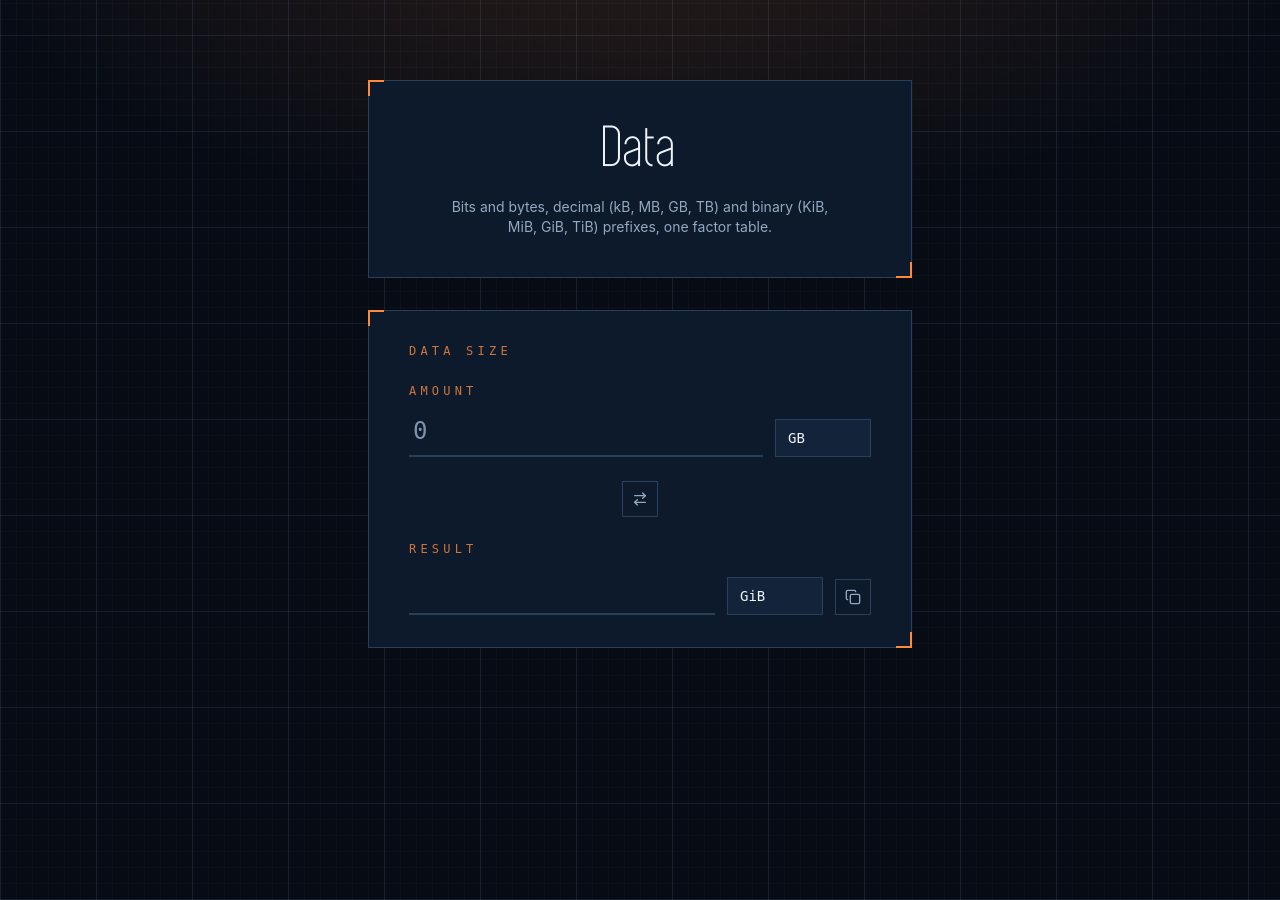
Test: DataSizeView › swaps from and to units when the swap button is clicked
The width and height of the screenshot is (1280, 900).
Check: the dropdown named "Data size source unit" shows "GB", box [775,419,871,457]
Check: the dropdown named "Data size target unit" shows "GiB", box [727,577,823,615]
Click the button named "Swap Data size units": (640, 499) [622,481,658,517]
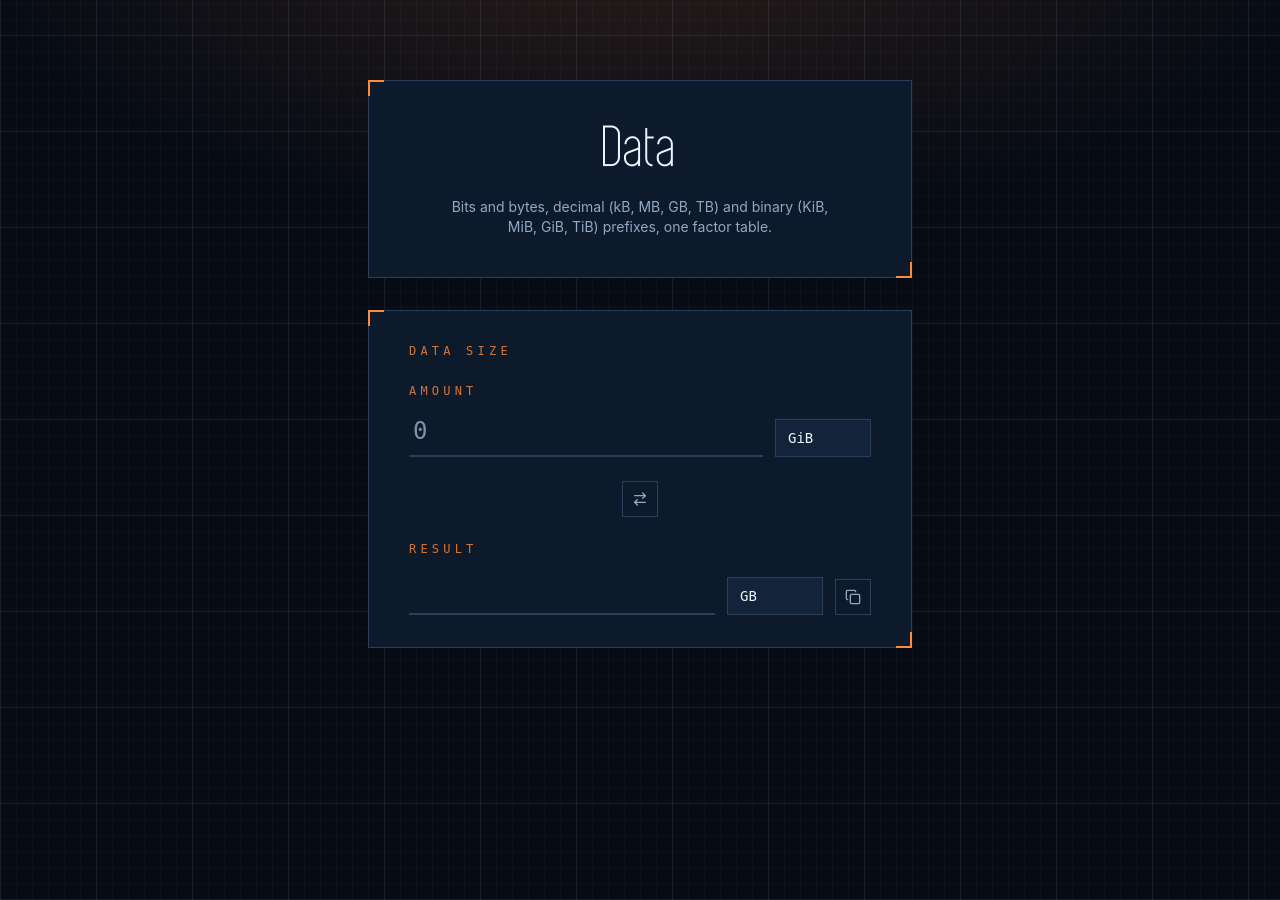
Check: the dropdown named "Data size source unit" shows "GiB", box [775,419,871,457]
Check: the dropdown named "Data size target unit" shows "GB", box [727,577,823,615]
